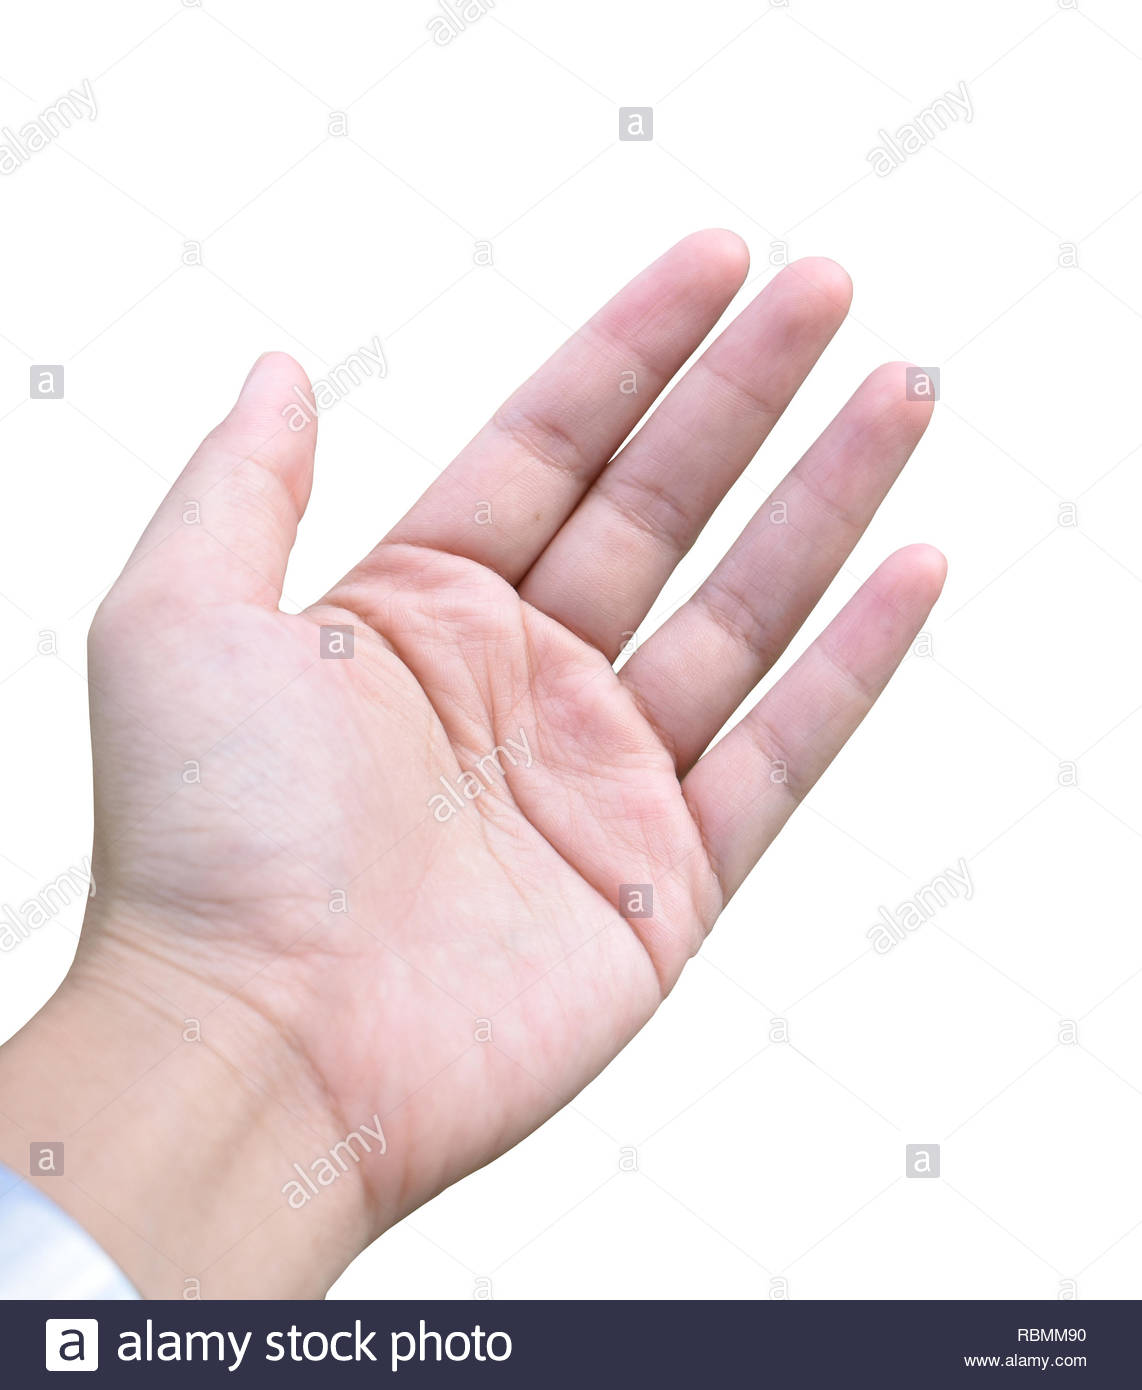open_hand: (46, 149, 1016, 1127)
